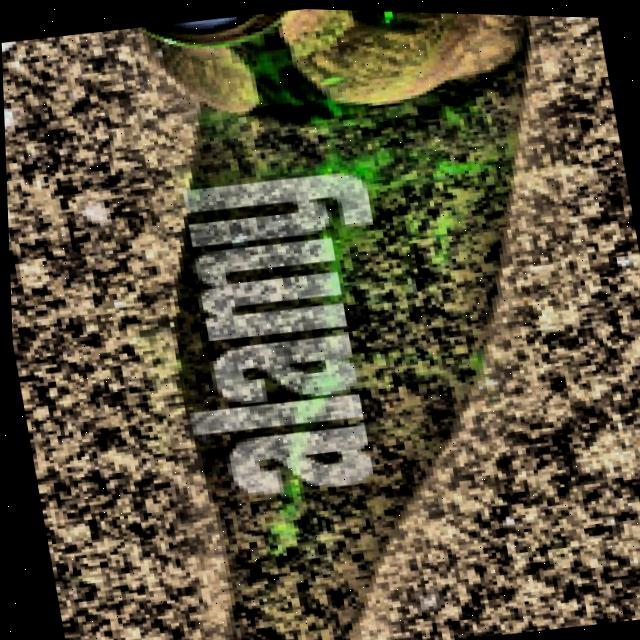glass: (139, 7, 533, 122)
